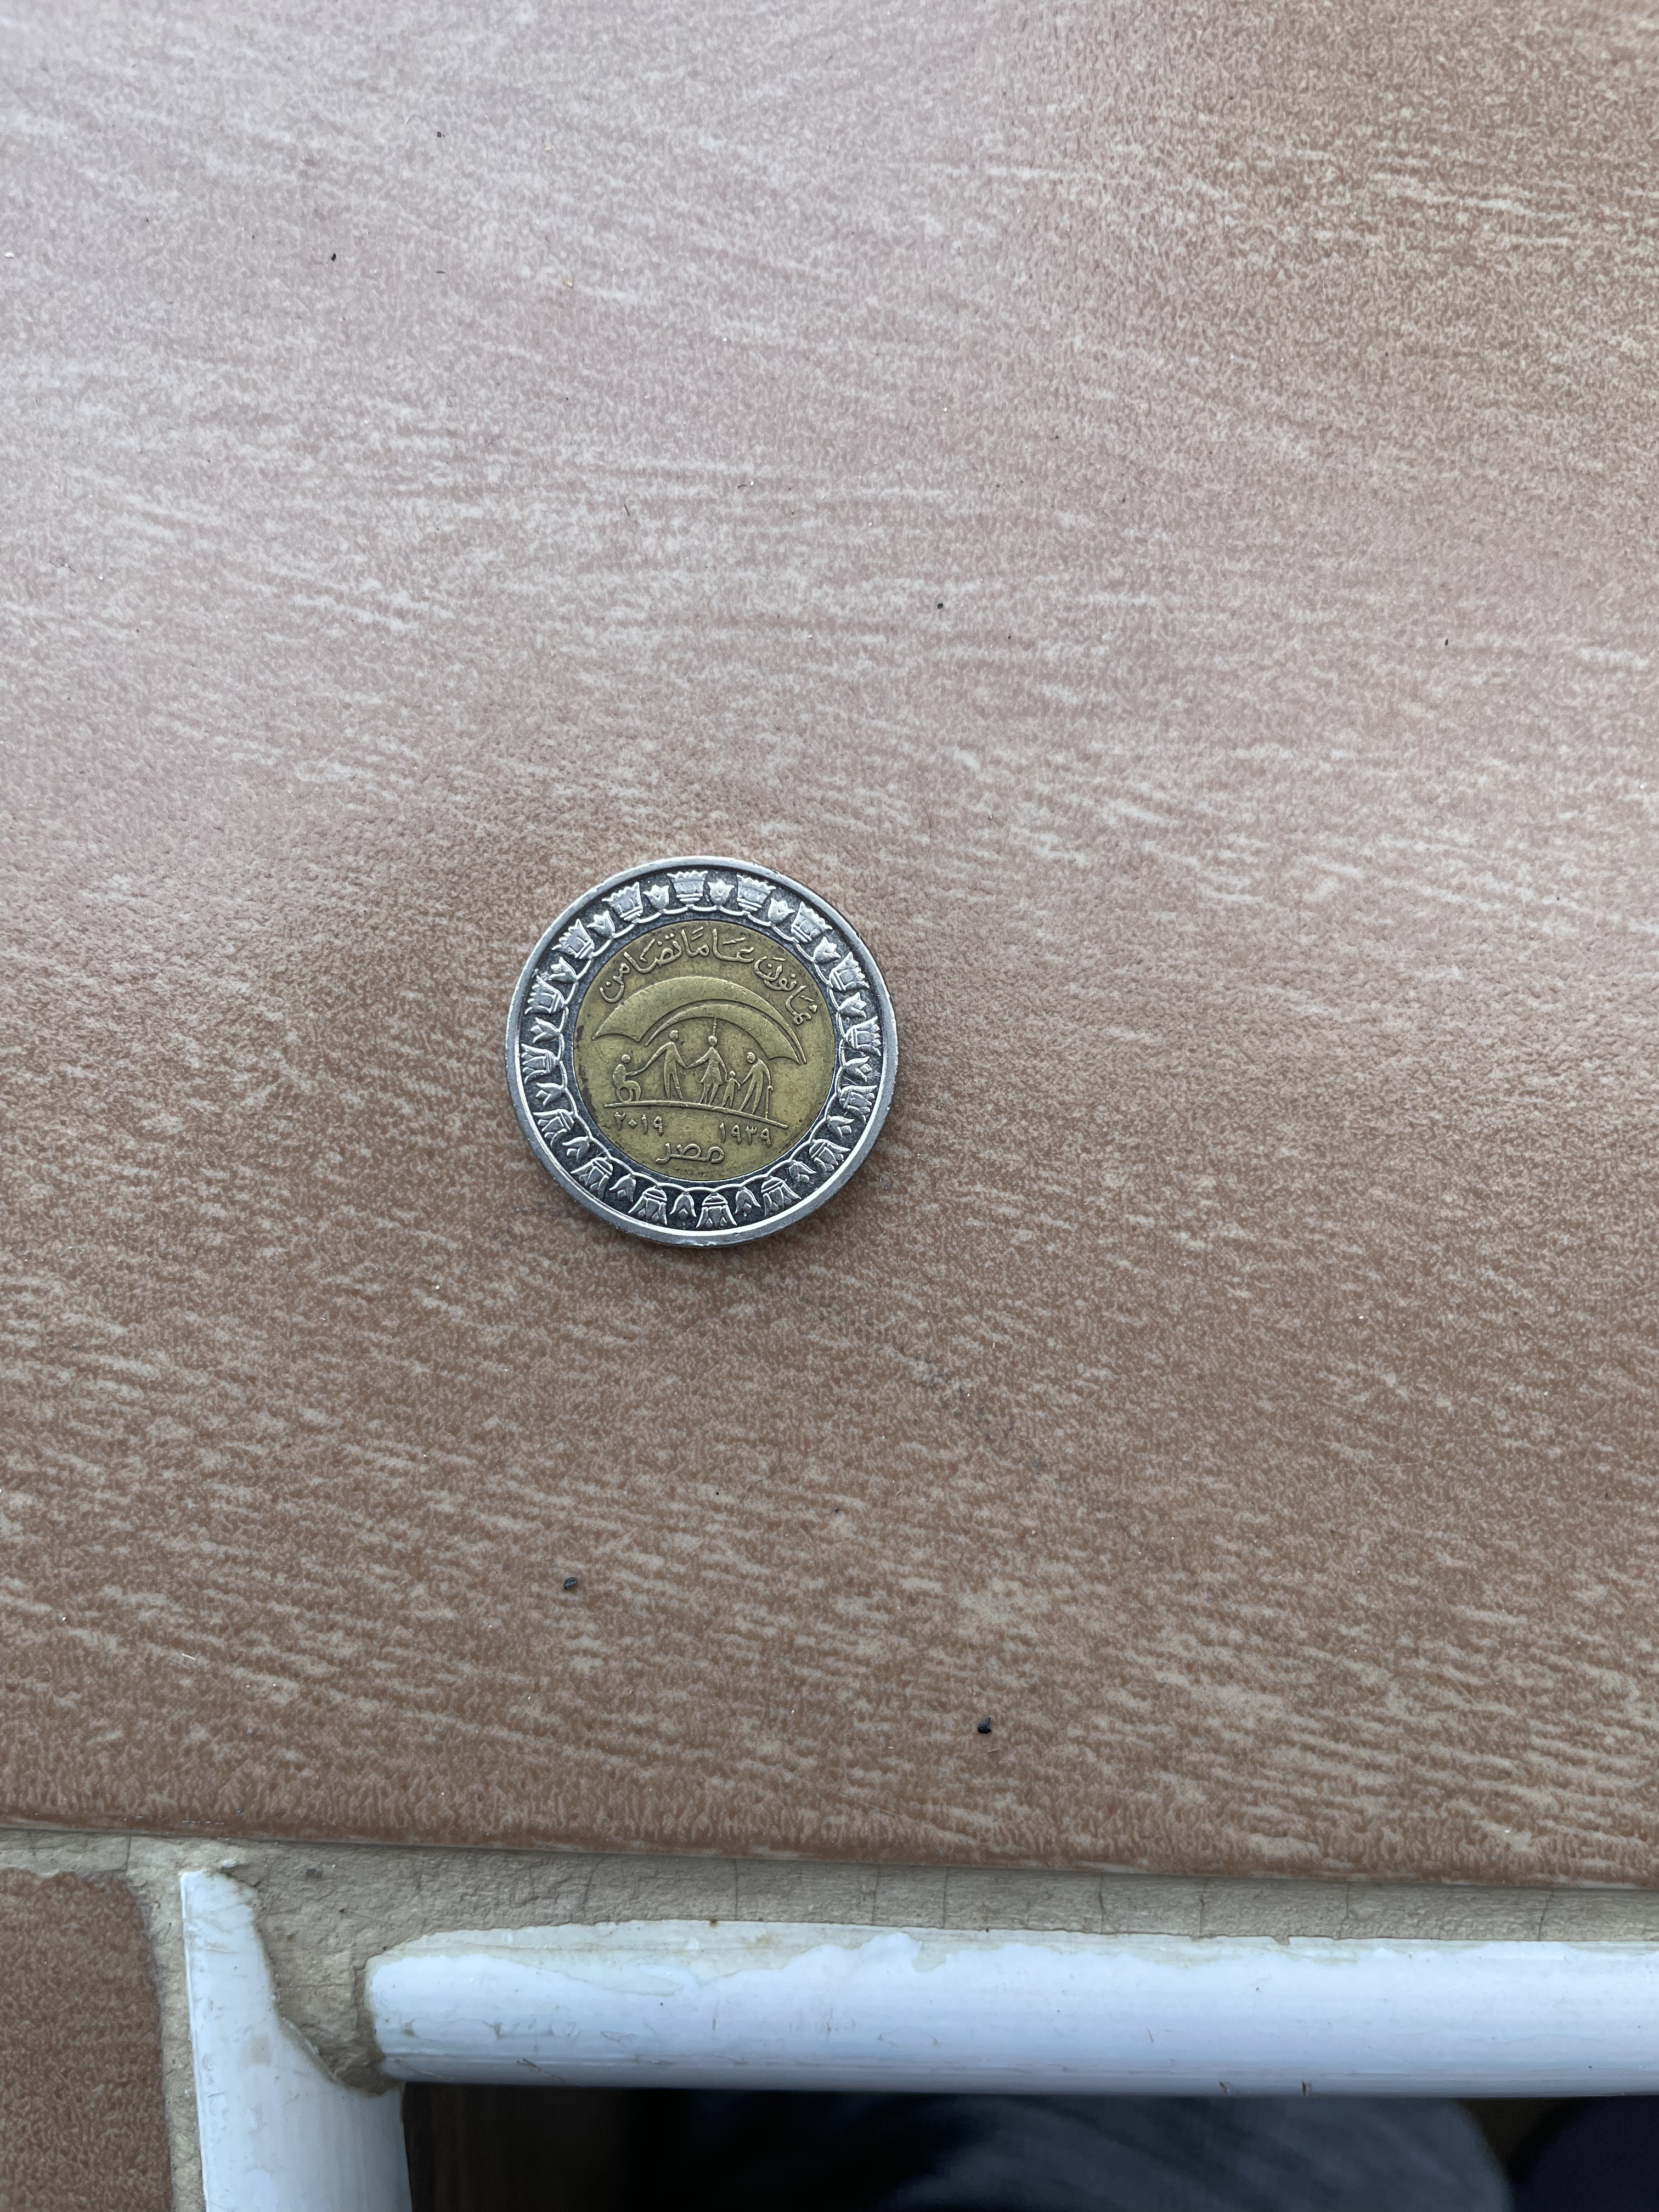one: (504, 852, 908, 1252)
